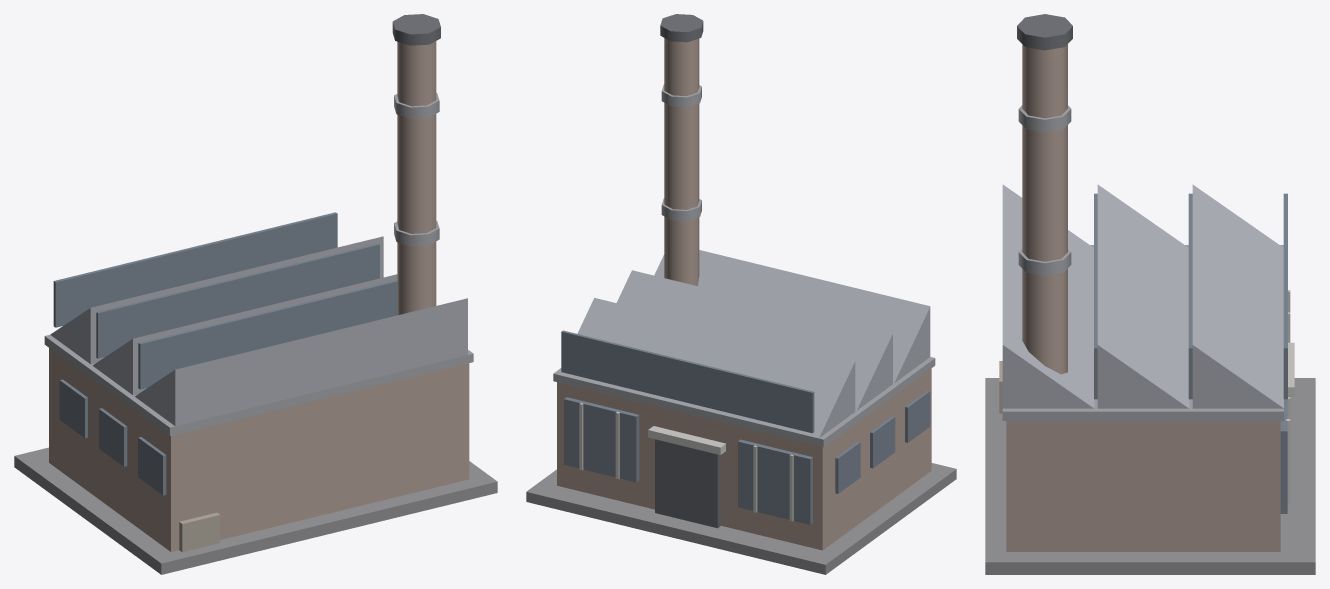
Rendered from kind-factory.glb.
3 views of the same model, side by side, from view 1: azimuth 30°, elevation 25°; view 2: azimuth 150°, elevation 25°; view 3: azimuth 270°, elevation 25° (orthographic). The views are drawn at different scales.
Parts seen in each view (by area): view 1: kind-factory; view 2: kind-factory; view 3: kind-factory.
Boxes of the visible parts, x1,y1,x2,y2 form: kind-factory: (14,14,497,574); kind-factory: (526,14,956,574); kind-factory: (985,14,1315,574).
Bounding box in the file's own units: 1.24 × 1.63 × 0.94.
